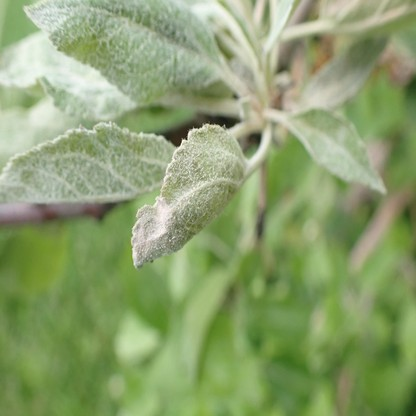powdery_mildew: (21, 2, 227, 103), (131, 123, 247, 269), (1, 123, 178, 198), (289, 107, 387, 193)
